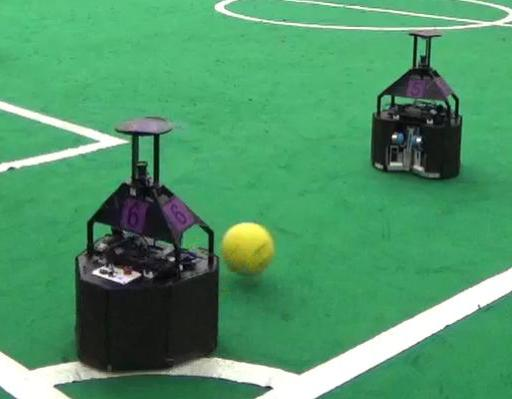robot: (71, 114, 221, 374), (367, 25, 470, 182)
